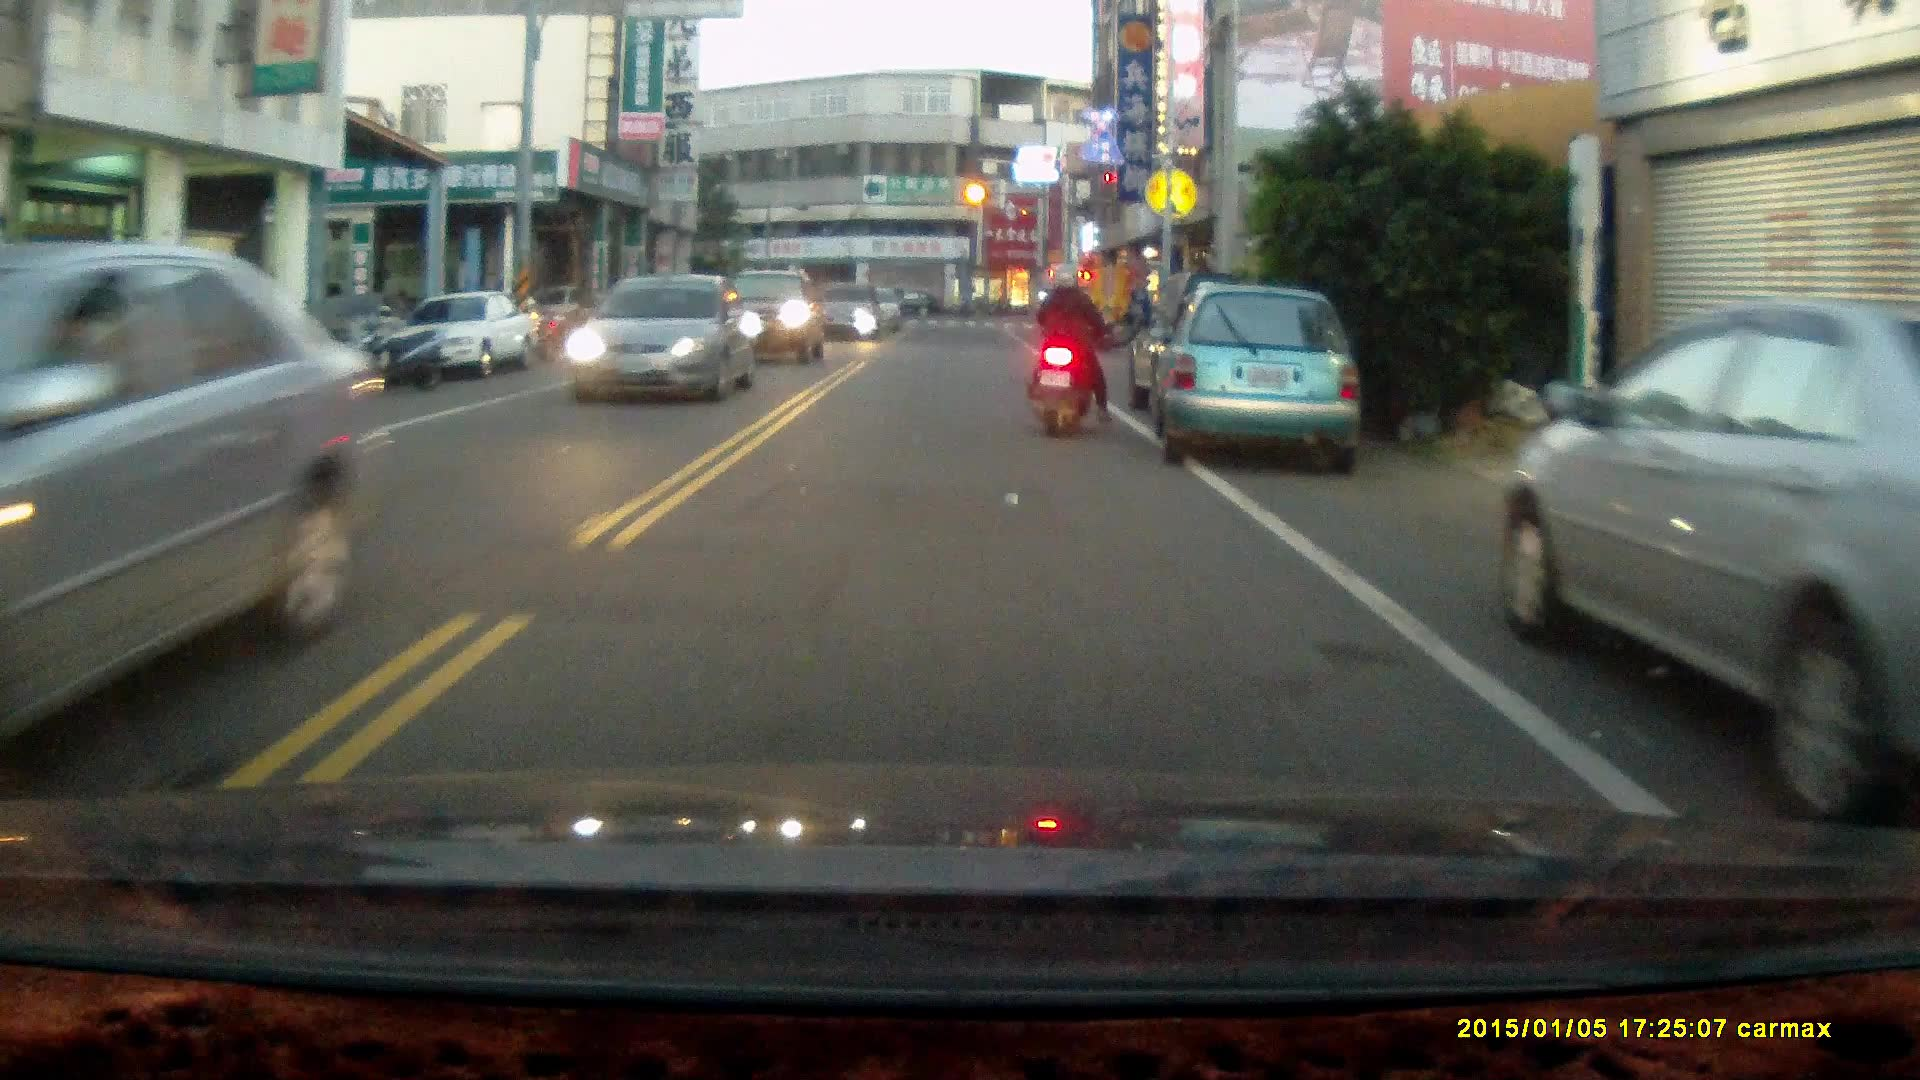rider: (1027, 267, 1114, 438)
vehicle: (1506, 302, 1920, 832), (1, 245, 380, 759), (1157, 280, 1367, 483), (571, 274, 756, 406), (393, 291, 537, 384), (704, 270, 832, 370)
